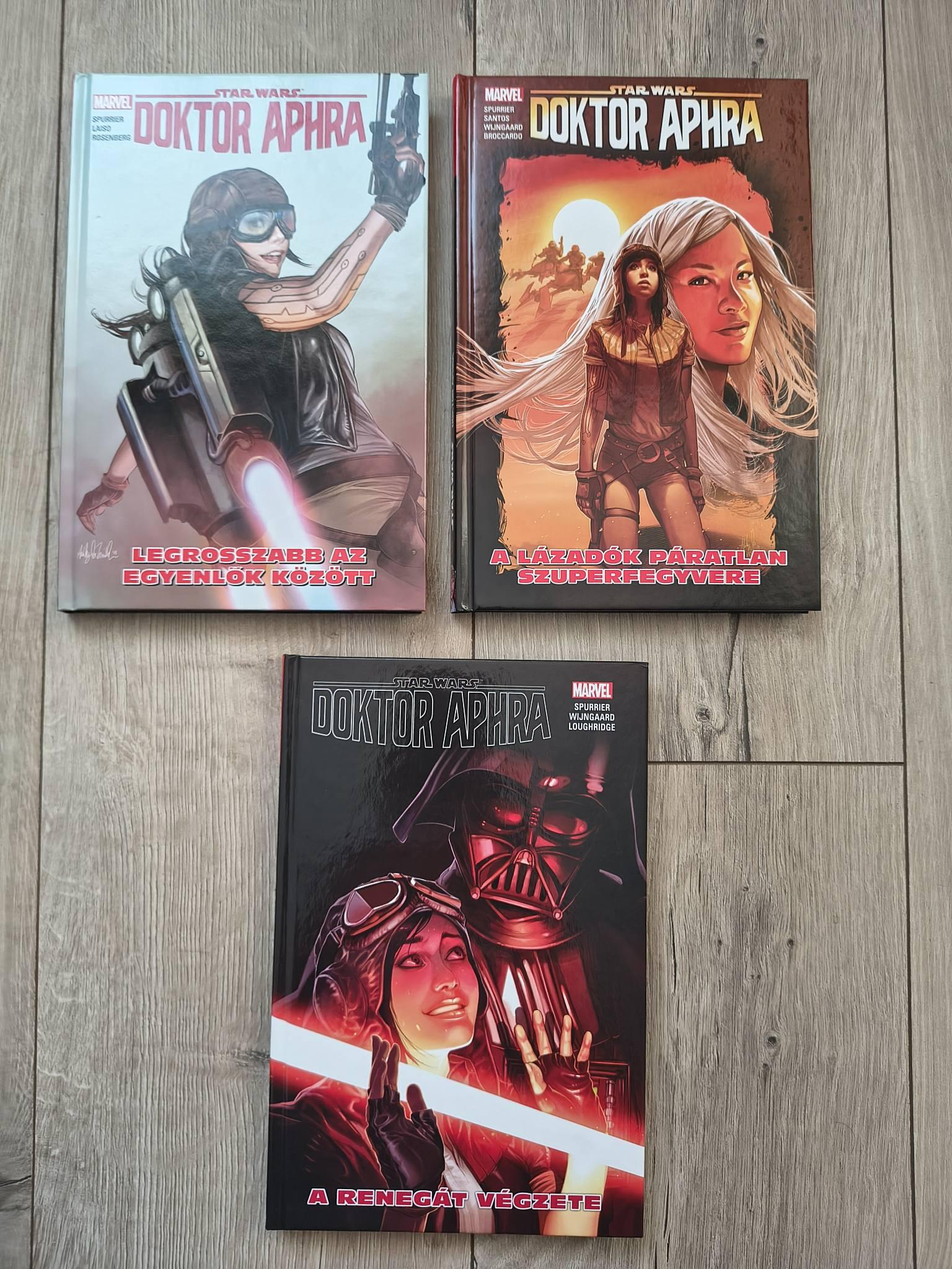comic: (266, 655, 655, 1237), (59, 73, 426, 610), (455, 76, 819, 611)
